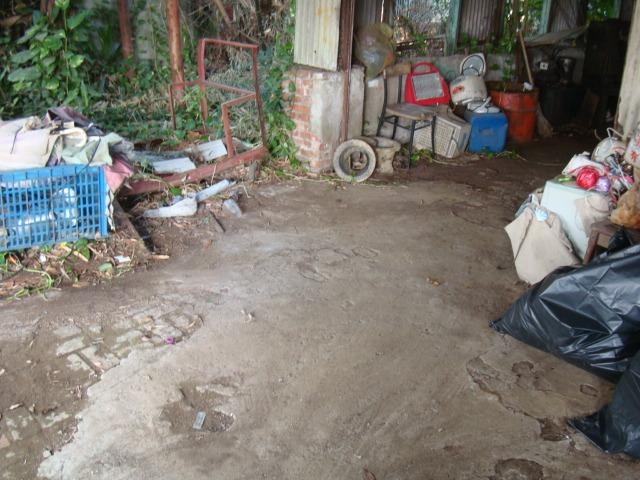bucket: (484, 76, 544, 150)
plastic_bag: (480, 226, 640, 385)
toilet: (361, 133, 403, 177)
